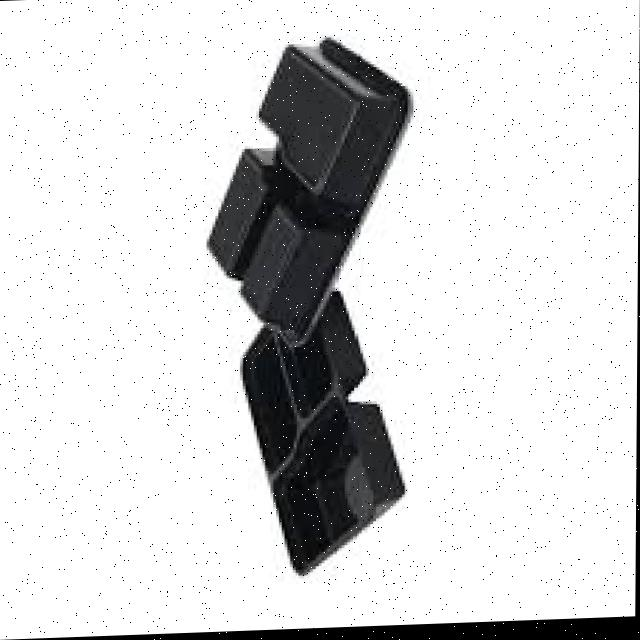disposable: (189, 23, 425, 346), (213, 277, 421, 581)
